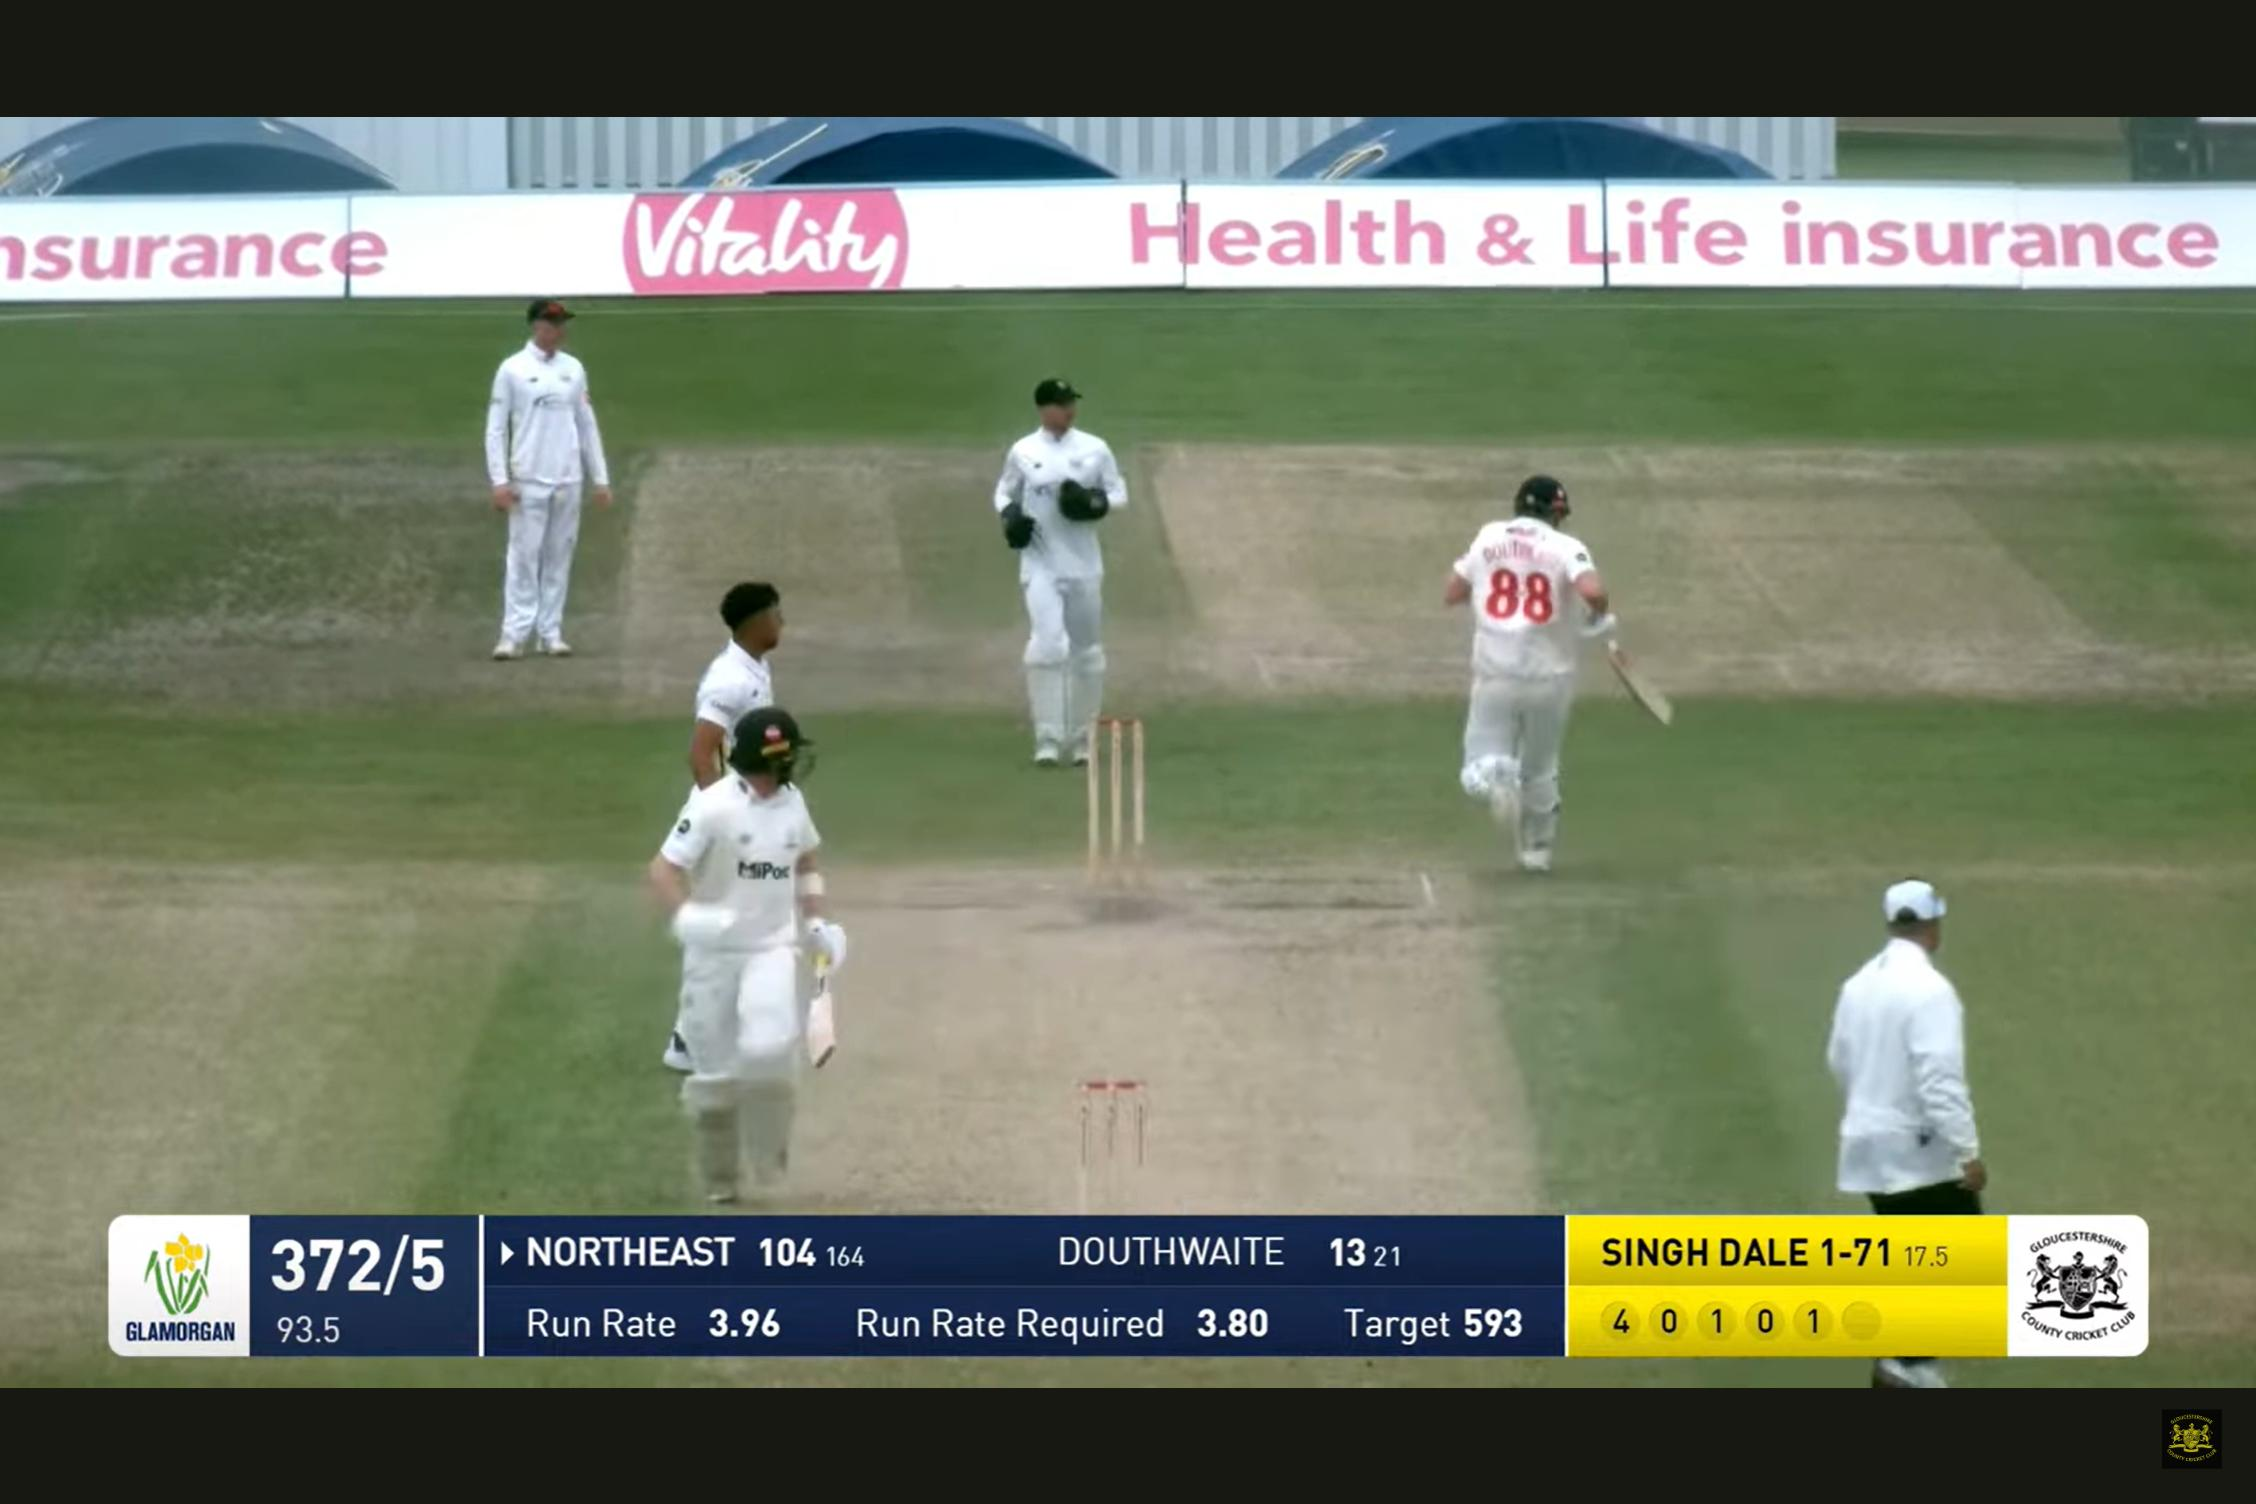umpire: (1747, 843, 2061, 1215)
wicket keeper: (948, 337, 1146, 774)
